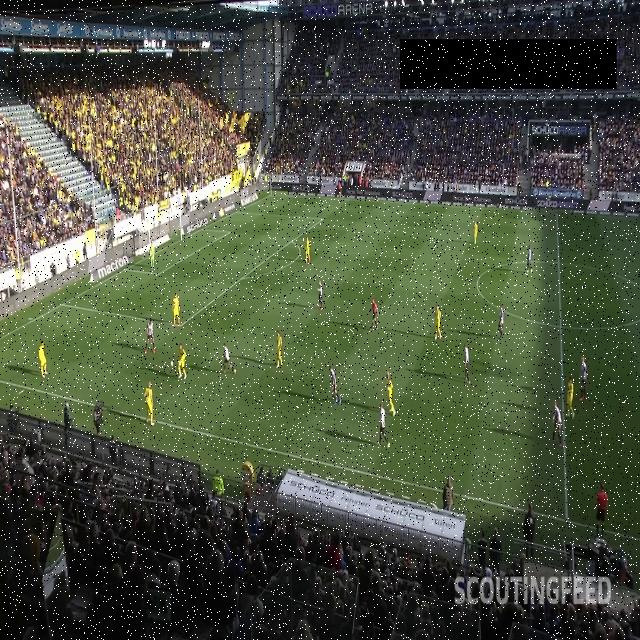Ball: (170, 361, 173, 367)
GoalKeeper: (150, 238, 155, 270)
Referee: (593, 481, 609, 541), (368, 298, 379, 332), (338, 180, 342, 199)
TEAM 1: (144, 382, 156, 428), (386, 371, 396, 418), (565, 377, 576, 419), (38, 340, 49, 380), (177, 342, 187, 381), (432, 304, 442, 342), (275, 331, 284, 369), (172, 293, 182, 327), (305, 238, 311, 266), (473, 220, 478, 246)
TEAM 2: (377, 404, 391, 449), (551, 400, 563, 448), (328, 365, 342, 406), (222, 342, 237, 376), (143, 318, 156, 354), (579, 355, 588, 403), (463, 344, 471, 385), (526, 245, 534, 274), (498, 306, 504, 340), (316, 280, 322, 312)
